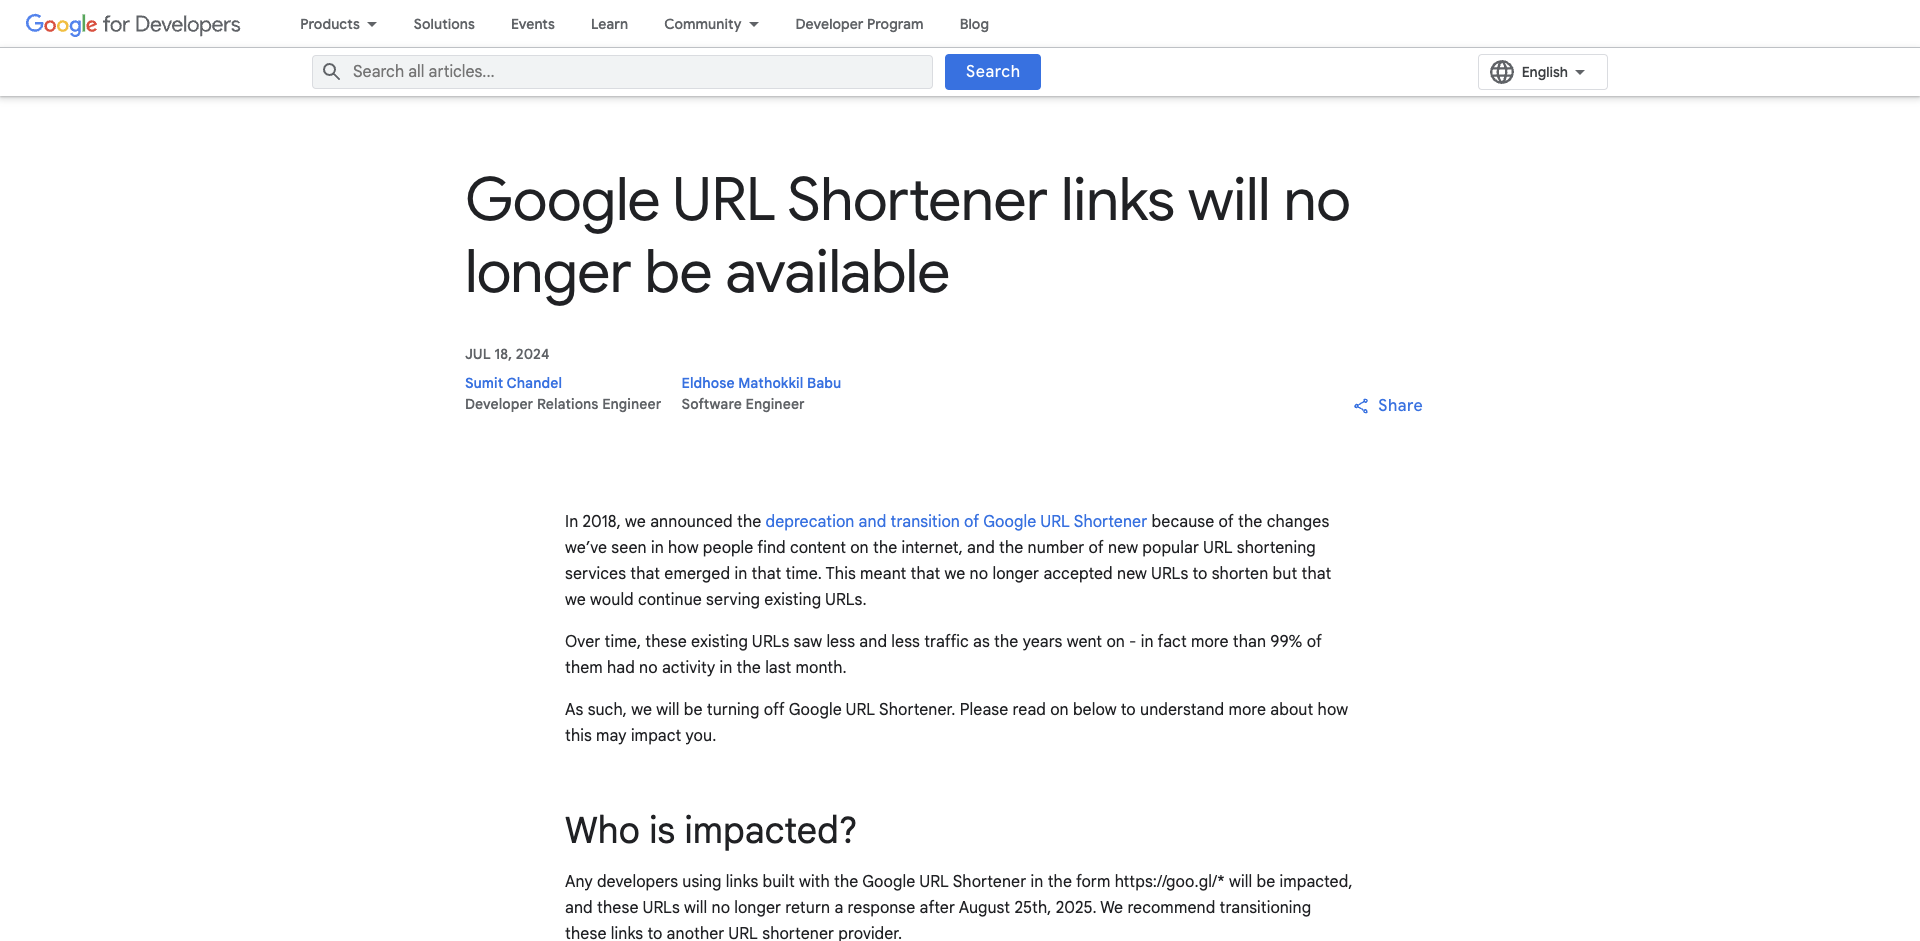button: (1343, 381, 1436, 431), (1478, 54, 1608, 89), (945, 54, 1041, 89), (360, 0, 396, 48), (742, 0, 778, 48)
dropdown: (277, 48, 880, 506), (640, 48, 1253, 290)
input: (312, 55, 933, 89)
link: (778, 0, 942, 48), (765, 512, 1147, 532), (24, 7, 242, 39), (396, 0, 493, 48), (647, 0, 742, 48), (465, 372, 661, 395), (493, 0, 573, 48), (282, 0, 360, 48), (681, 372, 841, 395), (573, 0, 647, 48), (942, 0, 1007, 48)
